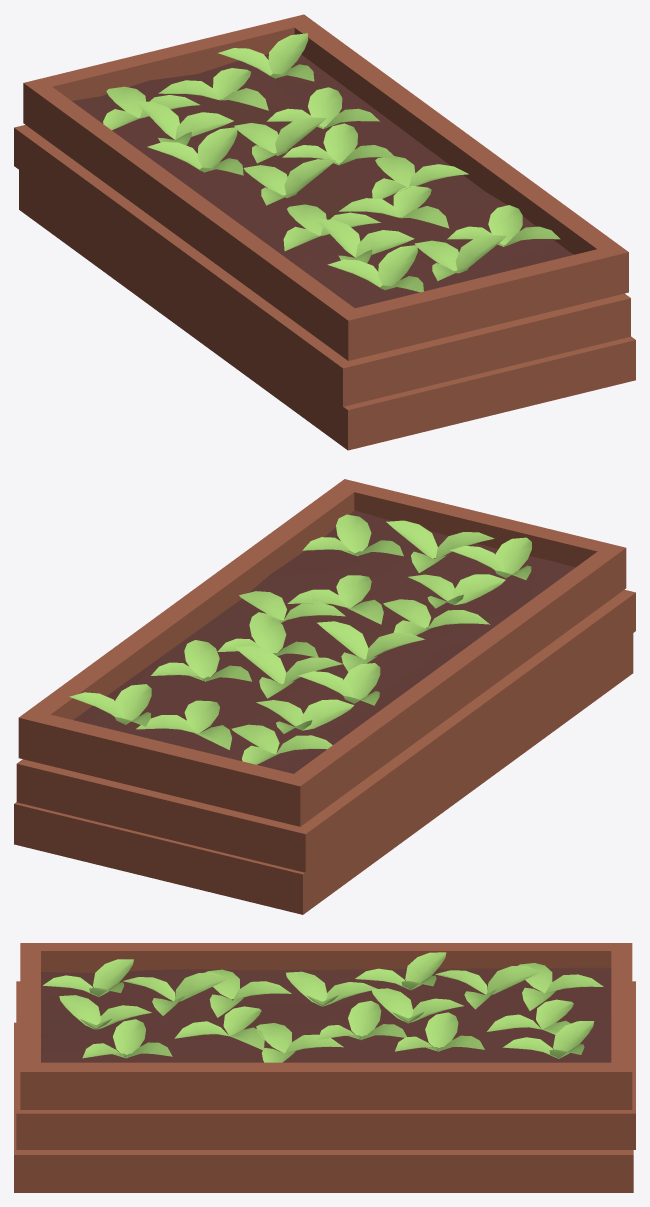
File: SM_FlowerLongPot.FBX
The picture shows the model from 3 angles, top to bottom: view 1: azimuth 30°, elevation 25°; view 2: azimuth 150°, elevation 25°; view 3: azimuth 270°, elevation 25°; orthographic projection. The views are drawn at different scales.
Visible parts, largest first — view 1: FlowerLongPot; view 2: FlowerLongPot; view 3: FlowerLongPot.
Boxes of the visible parts, bbox=[...] form: FlowerLongPot: bbox=[14, 14, 635, 450]; FlowerLongPot: bbox=[14, 479, 635, 914]; FlowerLongPot: bbox=[14, 943, 635, 1192].
Bounding box in the file's own units: 164 × 71.73 × 321.
Materials: 1 (1 with a texture image).
